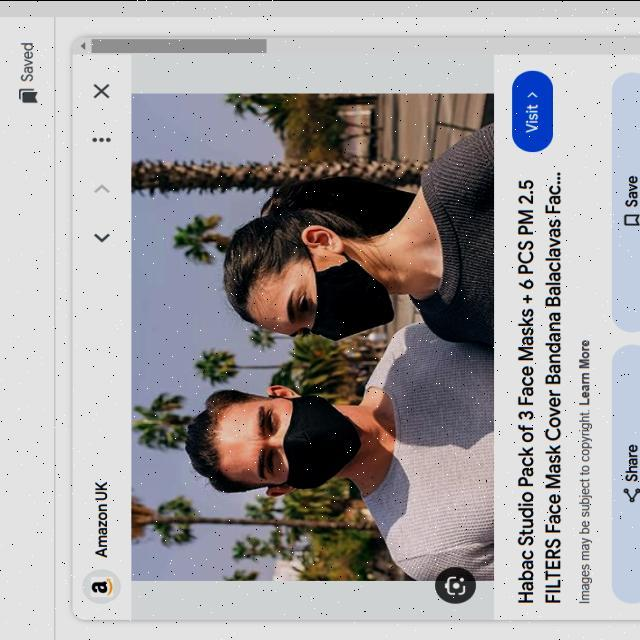face_mask: (246, 227, 392, 345), (218, 384, 350, 496)
